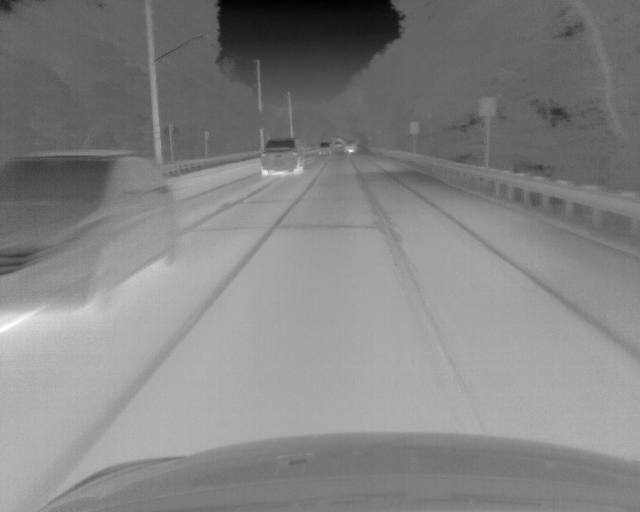car: (1, 148, 182, 313), (261, 137, 300, 174), (317, 140, 331, 156), (344, 143, 357, 155), (334, 140, 344, 150)
